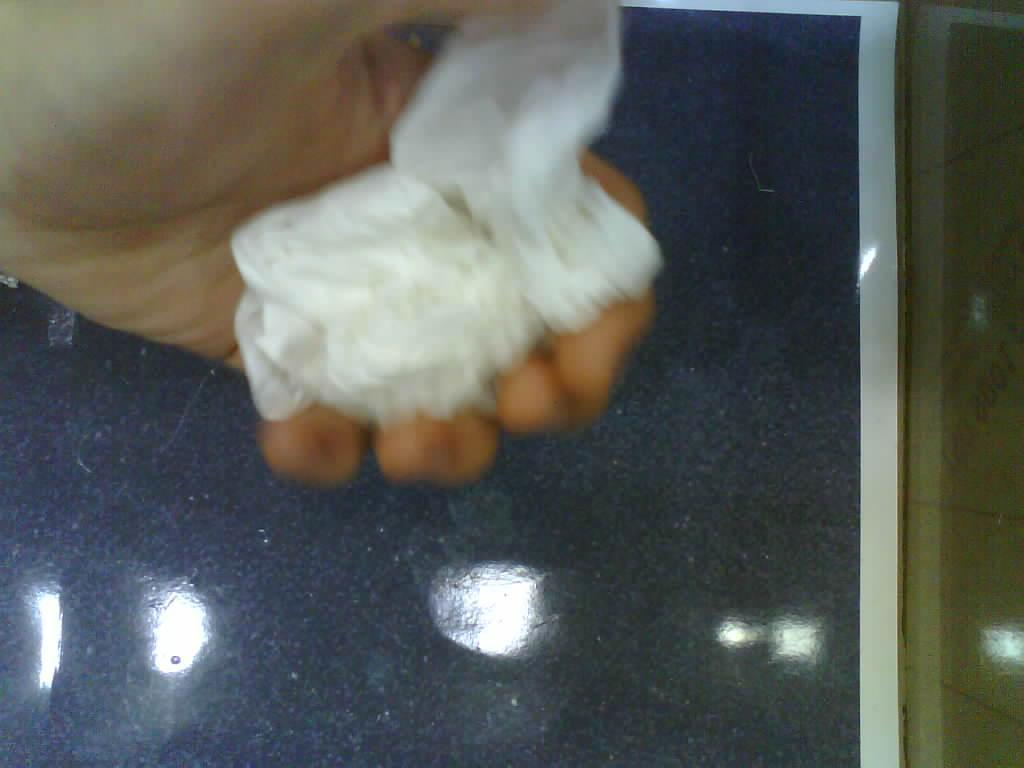paper: (232, 2, 662, 426)
